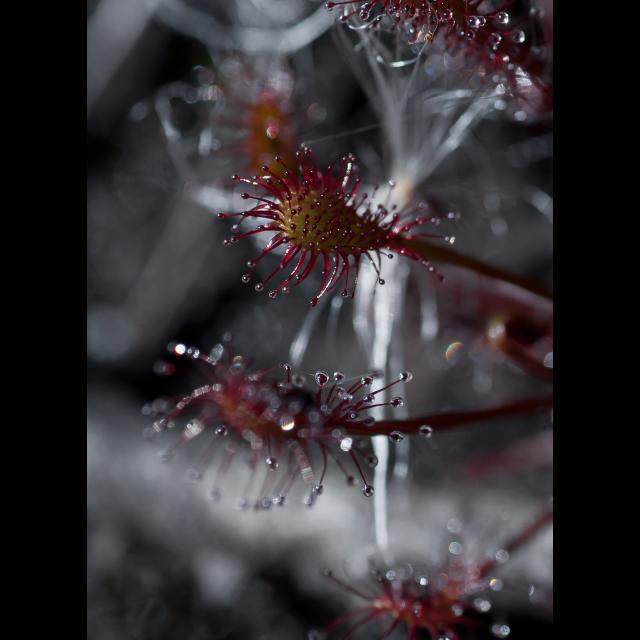Flower: (138, 334, 438, 512), (218, 141, 452, 311), (319, 516, 551, 640), (323, 0, 552, 96)
